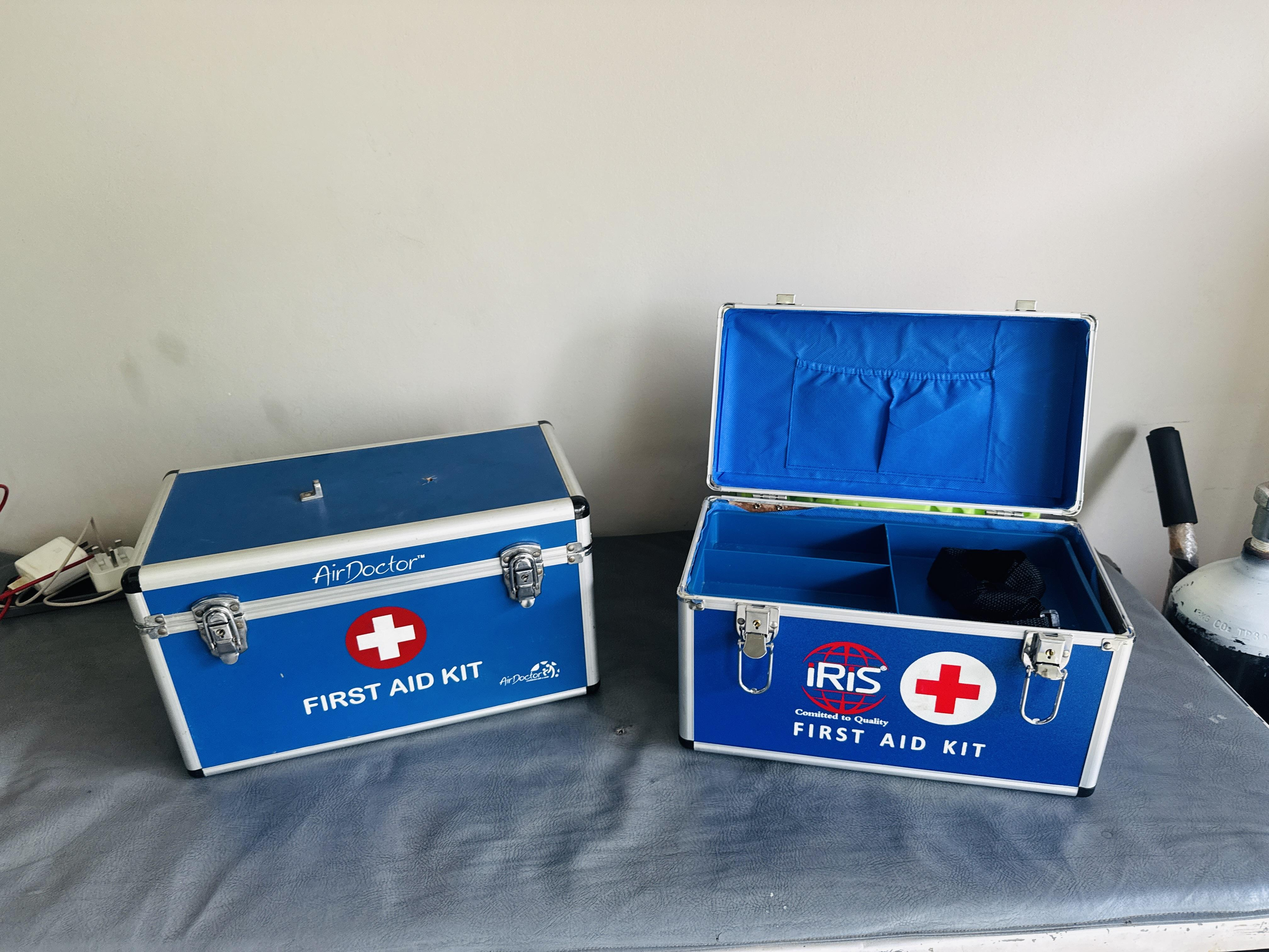FirstAidBox: (667, 252, 1151, 822), (111, 404, 615, 806)
